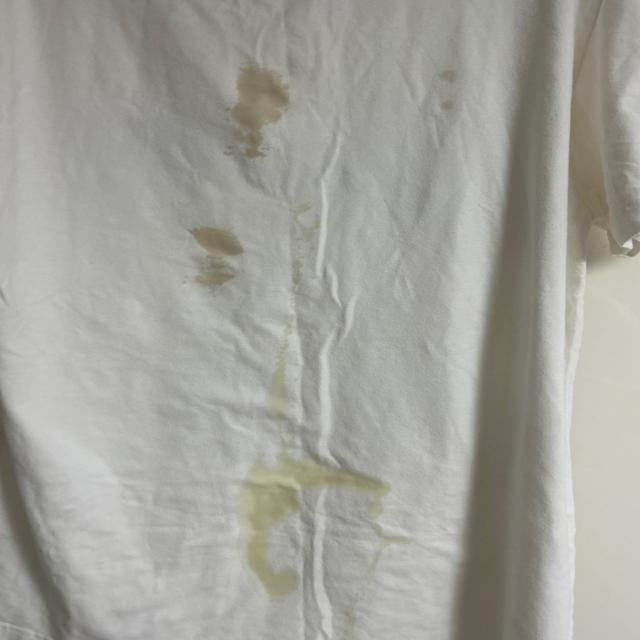stain: (234, 446, 382, 500), (234, 499, 302, 589), (224, 66, 281, 159), (193, 222, 240, 294), (282, 197, 336, 258), (263, 338, 289, 427), (346, 486, 400, 523), (429, 68, 465, 114)
